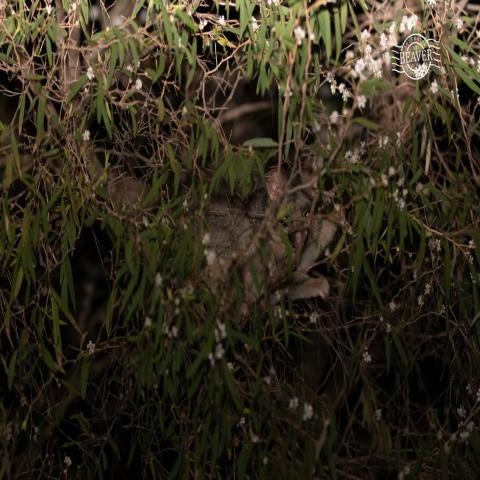small_animal: (183, 162, 343, 326)
